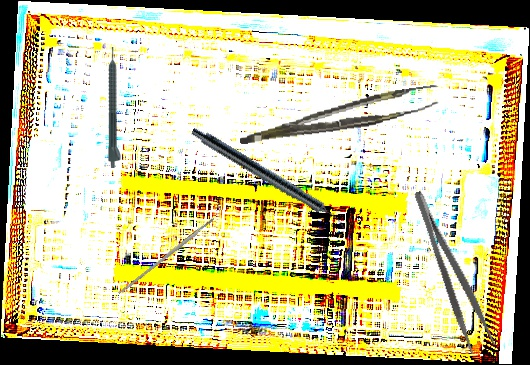Dressing Forceps: (410, 184, 497, 356)
Handpiece: (187, 124, 352, 233), (108, 47, 122, 168)
Scalpel Handle: (117, 217, 216, 296)
Tissue Forceps: (236, 84, 442, 145)
